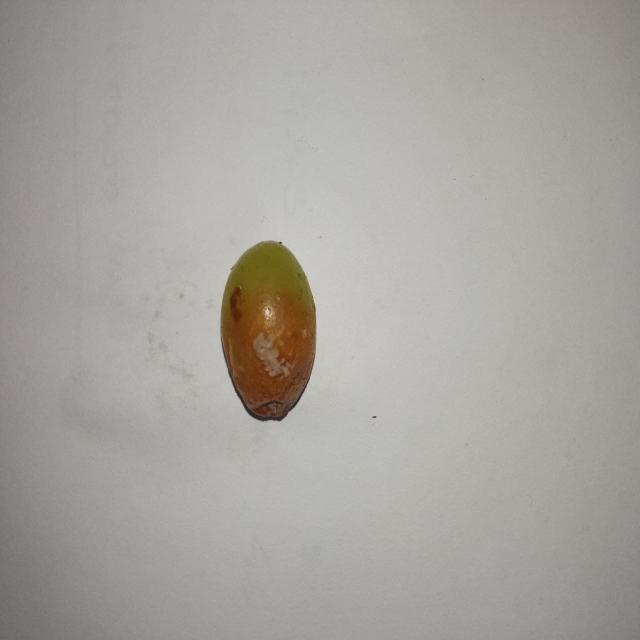rotten_grape: (218, 238, 318, 422)
